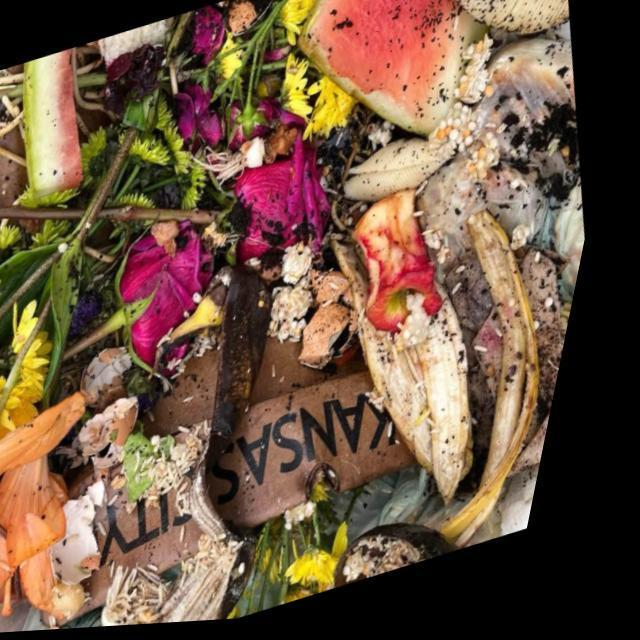Garbage: (0, 0, 596, 635)
